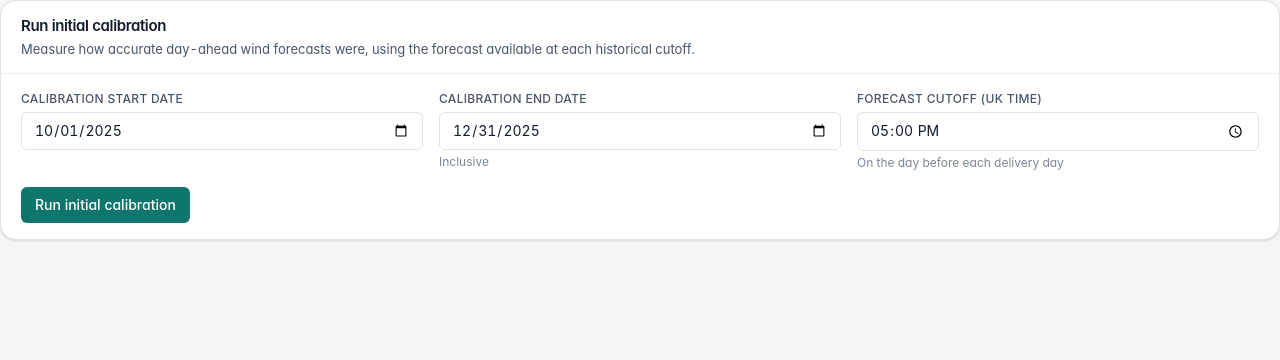
Test case: Calibration management › surfaces a rejected start (409 job already running) without leaving the form
What coordinates should you click on to do the following:
click the button "Run initial calibration"
I would click on:
 (105, 205)
Its box is [21, 187, 190, 223].
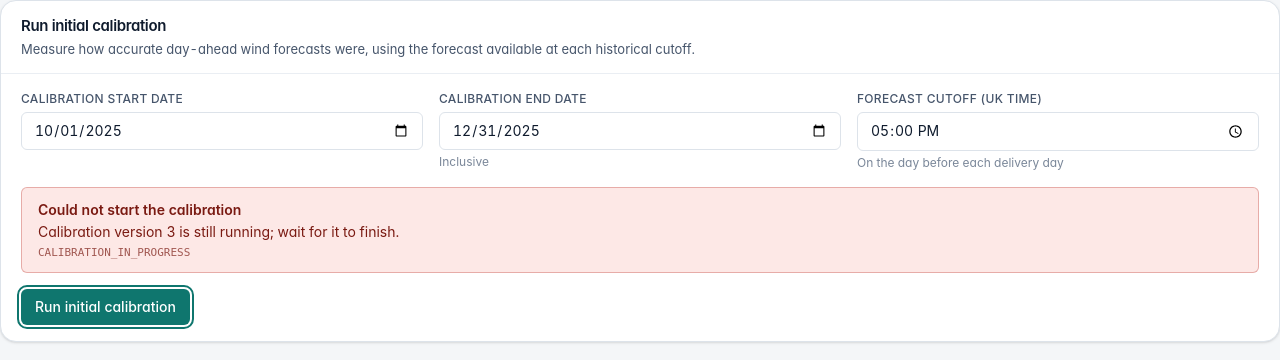
Expected: the button "Run initial calibration" is shown, [21, 289, 190, 325]
Expected: the text "still running; wait for it to finish" is shown, [38, 223, 399, 240]
